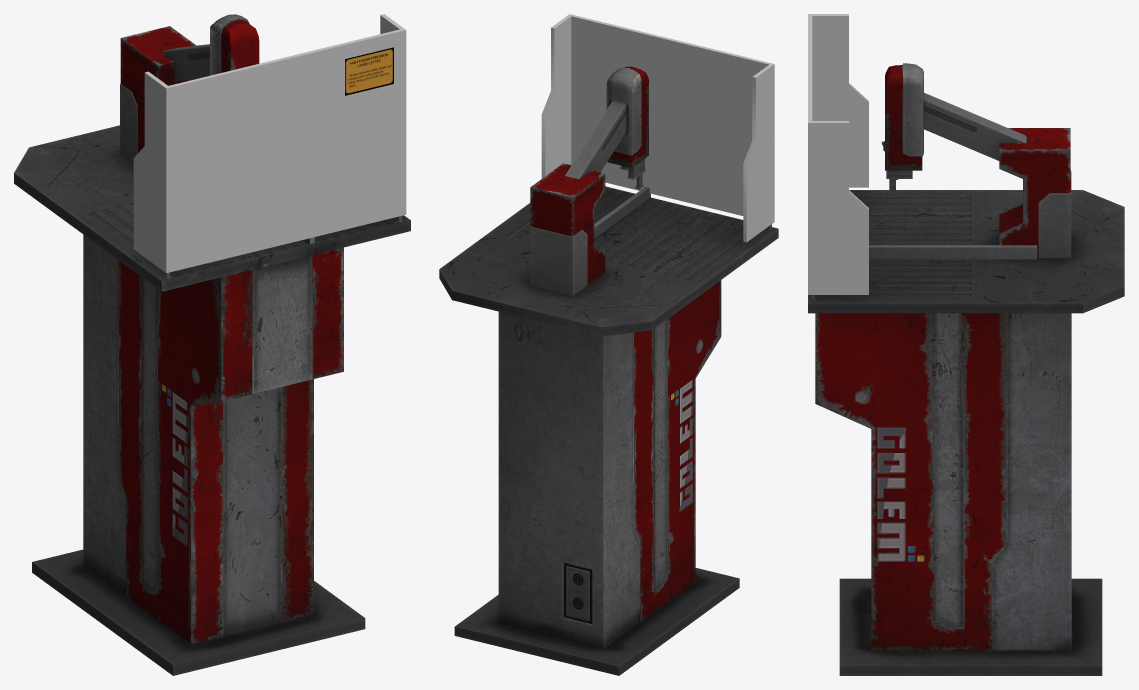
File: lasersaw.DAE
3 views of the same model, side by side, from view 1: azimuth 30°, elevation 25°; view 2: azimuth 150°, elevation 25°; view 3: azimuth 270°, elevation 25° (orthographic). The views are drawn at different scales.
Parts seen in each view (by area): view 1: Box069, glass, sign; view 2: Box069, glass; view 3: Box069, glass.
Part boxes in pixels (bbox=[...]): Box069: bbox=[14, 14, 410, 675]; glass: bbox=[133, 14, 406, 273]; sign: bbox=[345, 47, 393, 95]; Box069: bbox=[439, 66, 778, 675]; glass: bbox=[541, 14, 774, 242]; Box069: bbox=[808, 63, 1124, 675]; glass: bbox=[808, 14, 868, 294].
Size of the model in its own units: 0.7107 by 1.66 by 0.8426.
